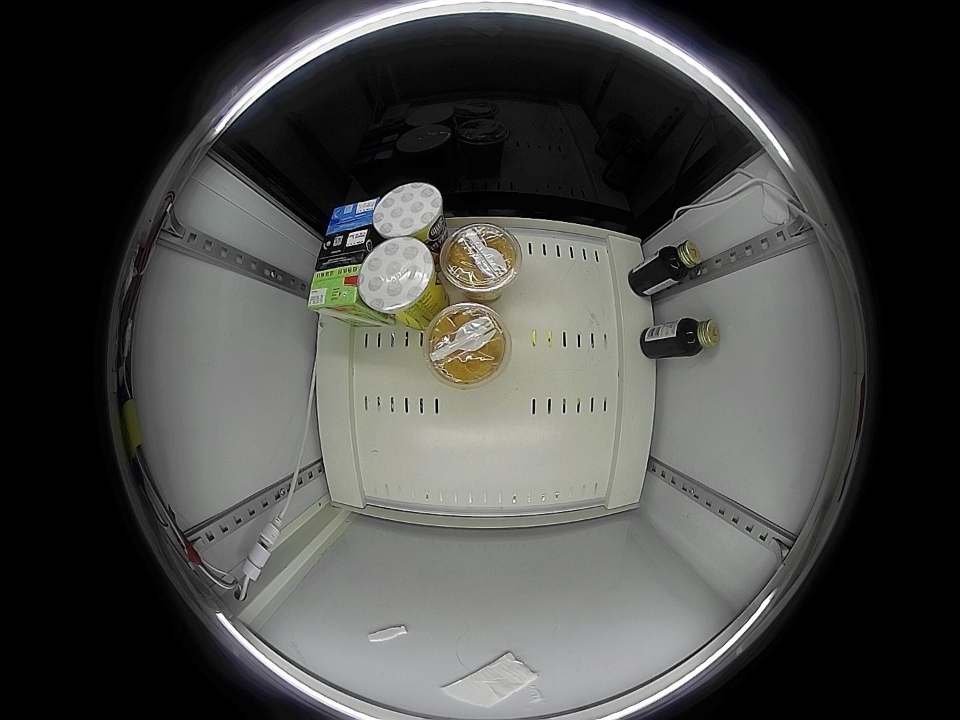kebike: (358, 237, 439, 322), (372, 182, 444, 242)
libaojian: (674, 317, 720, 356), (660, 241, 702, 280)
wanglaoji: (307, 264, 363, 316)
weitanai: (324, 200, 379, 238)
weitanai2: (315, 228, 372, 272)
xianguolao: (424, 302, 511, 389), (439, 222, 523, 300)
